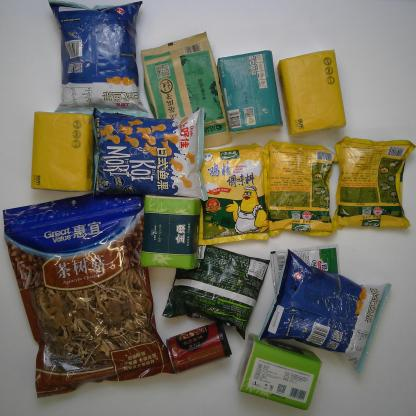Canned Food: (163, 321, 231, 374)
Dried Food: (1, 187, 172, 401), (133, 27, 231, 148)
Instant Noodles: (163, 230, 265, 340)
Puffed Food: (255, 246, 392, 376), (42, 0, 152, 118), (90, 102, 208, 208)
Seasoner: (332, 133, 414, 235), (197, 143, 270, 246), (263, 136, 335, 236), (263, 239, 342, 302)
Tissue: (274, 48, 350, 136), (136, 188, 209, 272), (216, 48, 281, 134), (242, 340, 319, 412), (32, 113, 99, 194)
